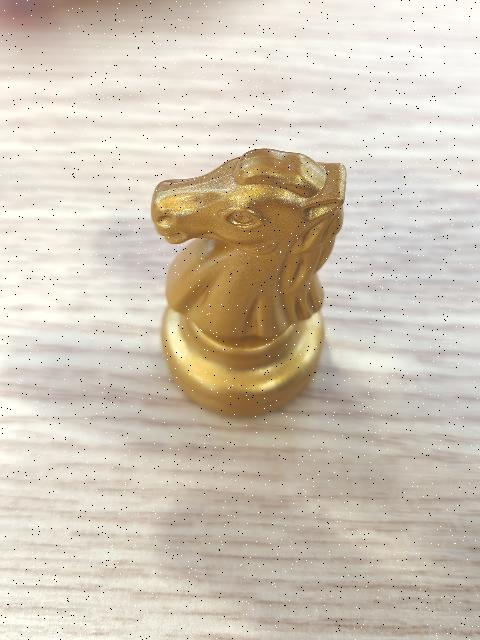black_knight: (148, 143, 352, 417)
